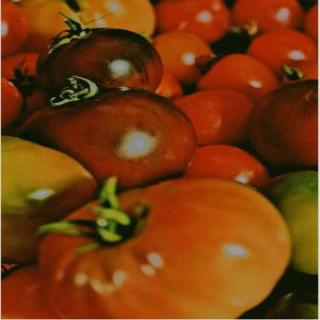tomato: (36, 174, 295, 319), (19, 75, 198, 190), (0, 133, 96, 262), (32, 11, 162, 91), (252, 75, 318, 171), (263, 171, 319, 270), (171, 89, 257, 145), (194, 52, 280, 100), (148, 32, 216, 82), (247, 31, 319, 75), (189, 142, 270, 181), (154, 0, 229, 40), (228, 0, 305, 36), (0, 1, 25, 50), (0, 77, 19, 130)
